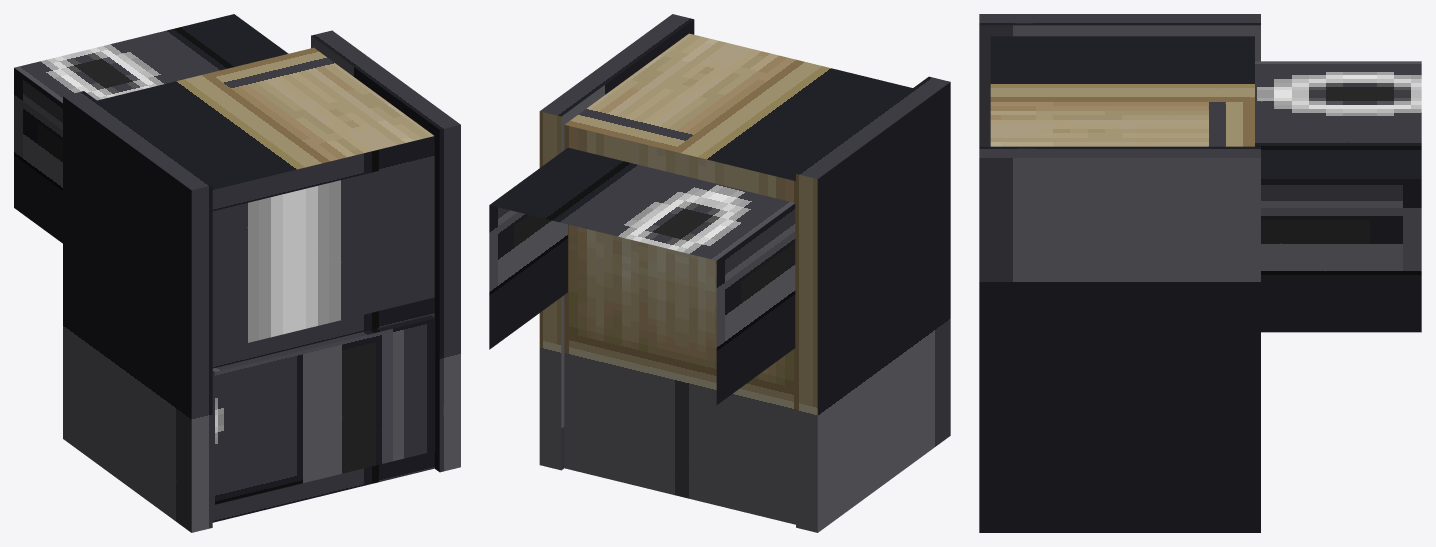
3 views of the same model, side by side, from view 1: azimuth 30°, elevation 25°; view 2: azimuth 150°, elevation 25°; view 3: azimuth 270°, elevation 25° (orthographic). The views are drawn at different scales.
Visible parts, largest first — view 1: 3244IMSD01_30; view 2: 3244IMSD01_30; view 3: 3244IMSD01_30.
Boxes of the visible parts, x1,y1,x2,y2 form: 3244IMSD01_30: (14,14,460,532); 3244IMSD01_30: (489,14,950,532); 3244IMSD01_30: (979,14,1421,532).
Bounding box in the file's own units: 0.98 × 1.19 × 1.27.
Materials: 2 (2 with a texture image).
